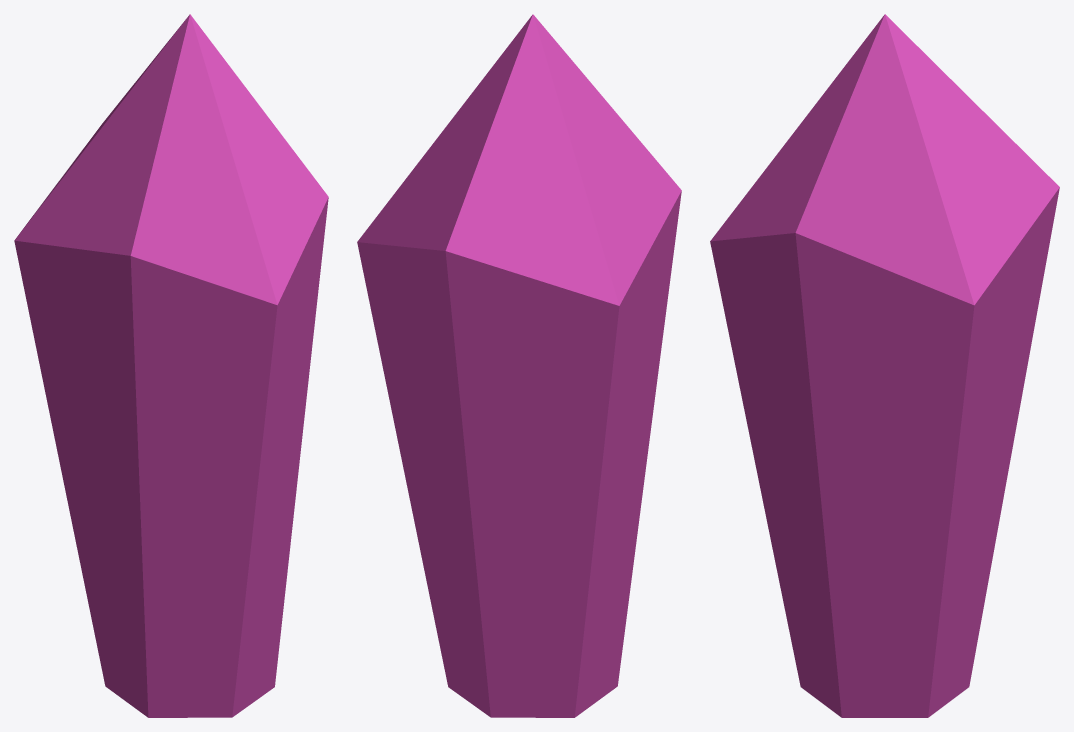
Rendered from Crystal-A01.fbx.
3 views of the same model, side by side, from view 1: azimuth 30°, elevation 25°; view 2: azimuth 150°, elevation 25°; view 3: azimuth 270°, elevation 25° (orthographic).
Visible parts, largest first — view 1: Crystal-A01; view 2: Crystal-A01; view 3: Crystal-A01.
Part boxes in pixels (x1,y1,x2,y2): Crystal-A01: (14,14,328,717); Crystal-A01: (357,14,681,717); Crystal-A01: (710,14,1059,717).
Size of the model in its own units: 32.74 by 80.23 by 37.79.
